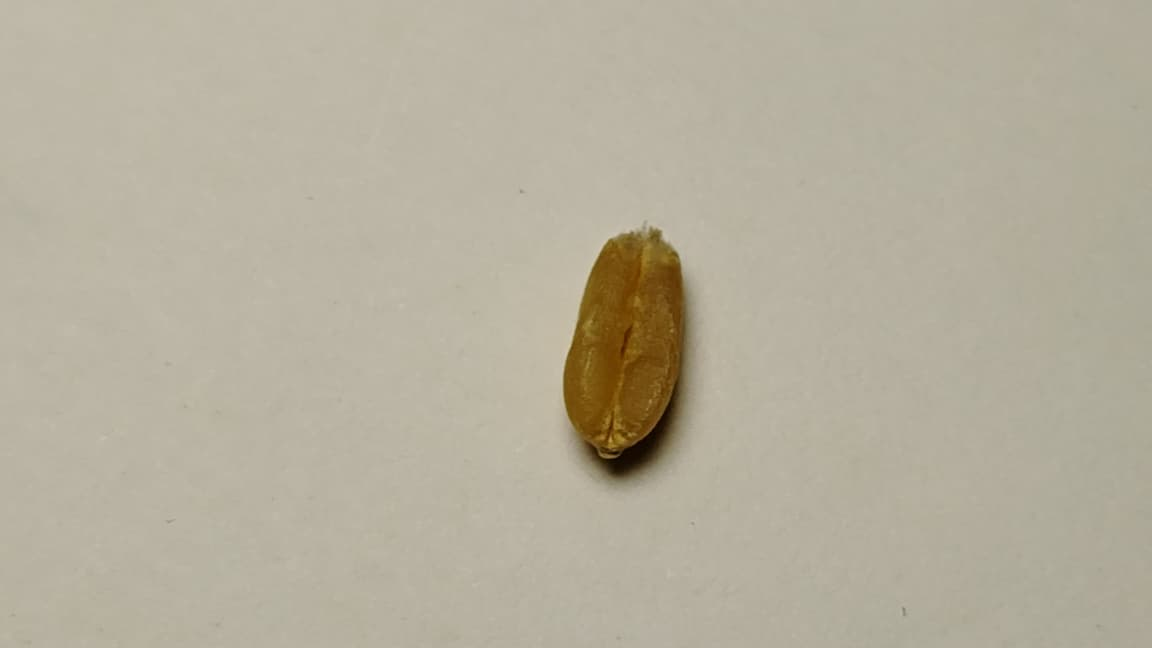healthy: (564, 227, 684, 453)
